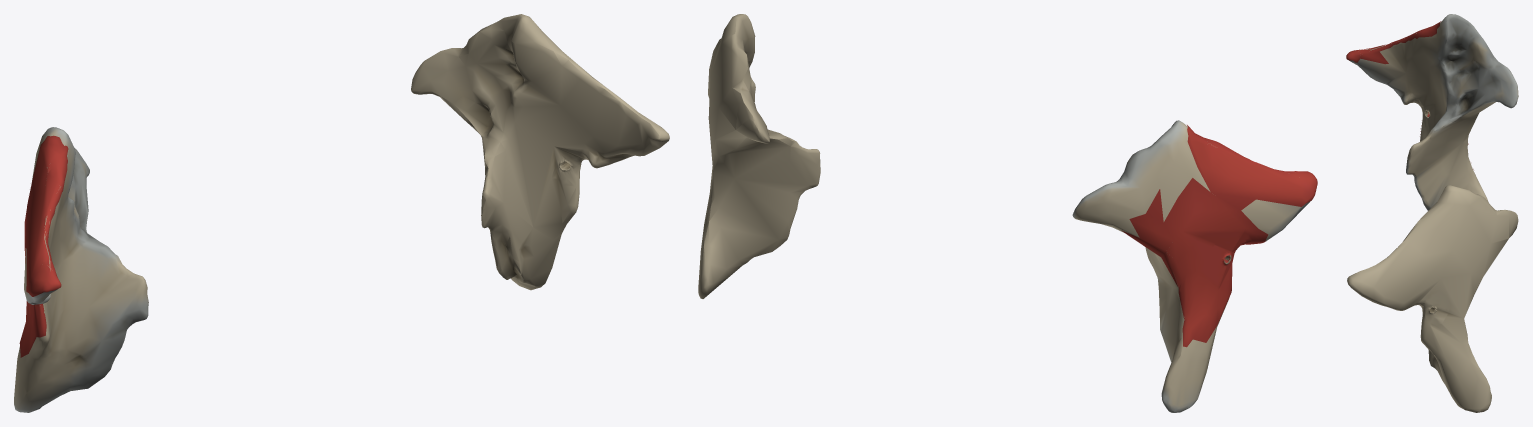
Rendered from os-zygomaticum.glb.
3 views of the same model, side by side, from view 1: azimuth 30°, elevation 25°; view 2: azimuth 150°, elevation 25°; view 3: azimuth 270°, elevation 25° (orthographic). The views are drawn at different scales.
Visible parts, largest first — view 1: FJ3287, FJ3392, origo__temporalis-margo-massetericus__m-masseter, os-zygomaticum__frontalis-orbitalis, origo__facies-lateralis__m-zygomaticus-major; view 2: FJ3287, origo__facies-lateralis__m-zygomaticus-major, FJ3392, origo__temporalis-margo-massetericus__m-masseter, os-zygomaticum__frontalis-orbitalis; view 3: FJ3287, FJ3392, origo__temporalis-margo-massetericus__m-masseter, os-zygomaticum__frontalis-orbitalis.
Boxes of the visible parts, x1,y1,x2,y2 form: FJ3287: (411, 14, 669, 290); FJ3392: (24, 127, 148, 386); origo__temporalis-margo-massetericus__m-masseter: (25, 135, 68, 296); os-zygomaticum__frontalis-orbitalis: (14, 317, 138, 412); origo__facies-lateralis__m-zygomaticus-major: (19, 209, 46, 357); FJ3287: (698, 14, 820, 298); origo__facies-lateralis__m-zygomaticus-major: (1121, 178, 1268, 347); FJ3392: (1072, 120, 1310, 382); origo__temporalis-margo-massetericus__m-masseter: (1187, 125, 1317, 210); os-zygomaticum__frontalis-orbitalis: (1158, 284, 1229, 412); FJ3287: (1347, 185, 1518, 412); FJ3392: (1349, 14, 1518, 207); origo__temporalis-margo-massetericus__m-masseter: (1346, 21, 1441, 64); os-zygomaticum__frontalis-orbitalis: (1411, 129, 1430, 210).
Size of the model in its own units: 128 by 56.12 by 39.87.
